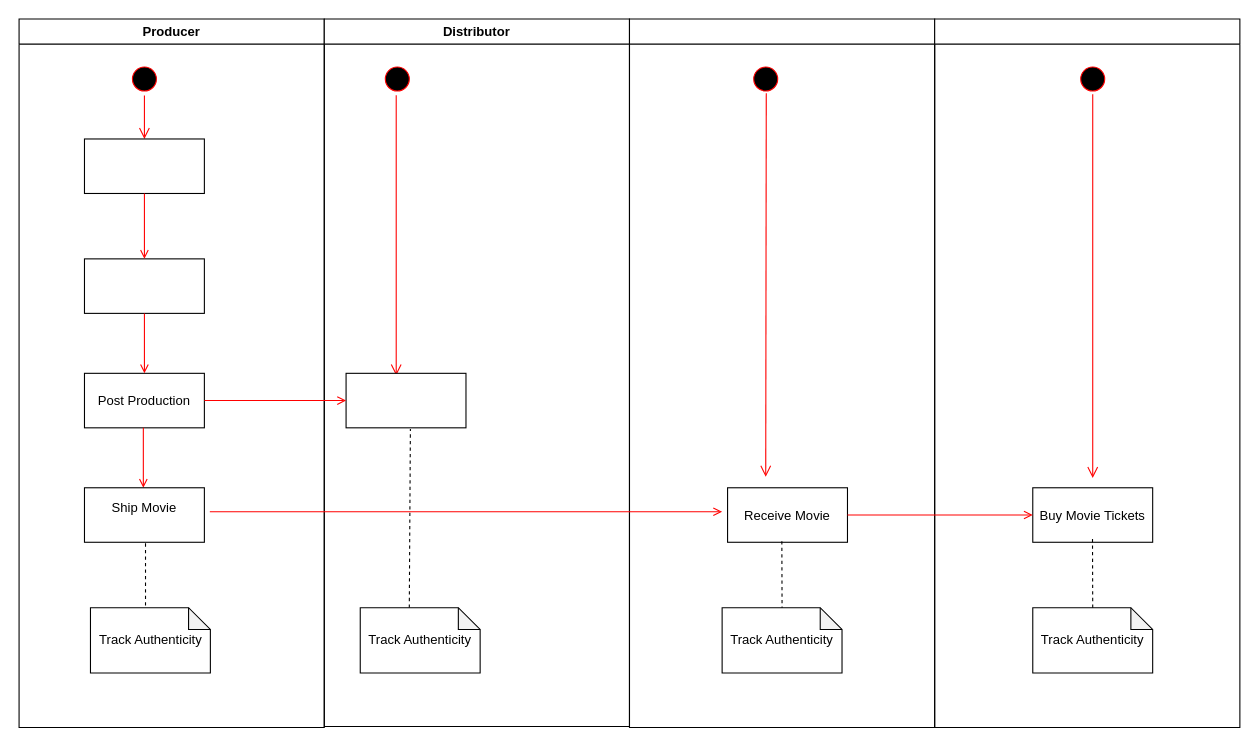
Image size: 1259x747. Some labels were removed from this diagram. Here are the shapes that lost their labels. From the top down, the box of each, then its label:
(83, 138, 204, 193): Pre-Production
(83, 258, 204, 313): Movie Making
(628, 18, 935, 728): Local Theater
(934, 18, 1240, 728): Consumer
(345, 372, 466, 428): Buy Movie
